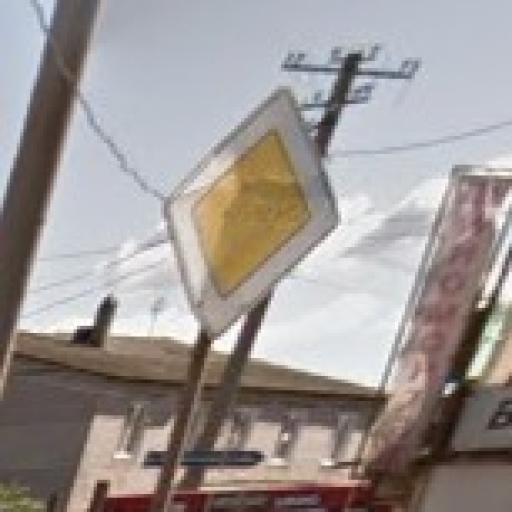traffic_sign: (162, 87, 342, 341)
